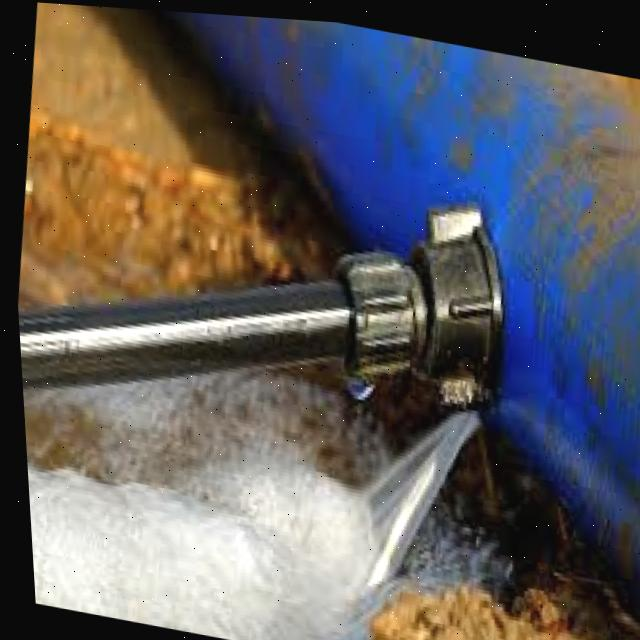corrosion: (303, 342, 547, 591)
